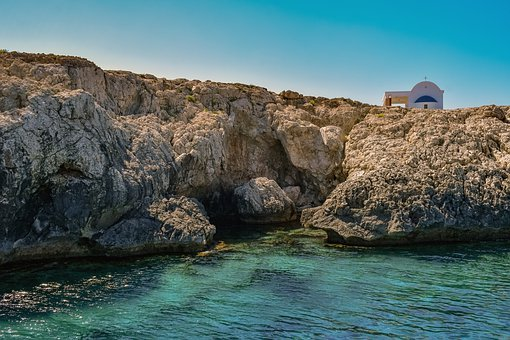mountain: (7, 61, 505, 243)
sea: (19, 232, 506, 338)
sky: (2, 4, 508, 100)
